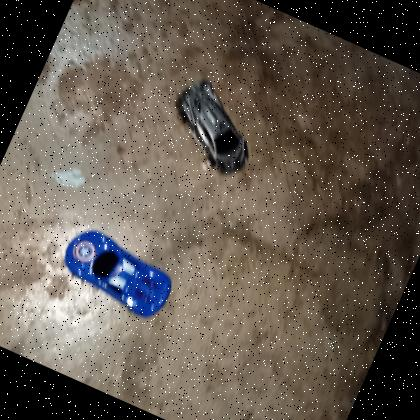Car: (152, 69, 274, 186), (54, 221, 184, 325)
